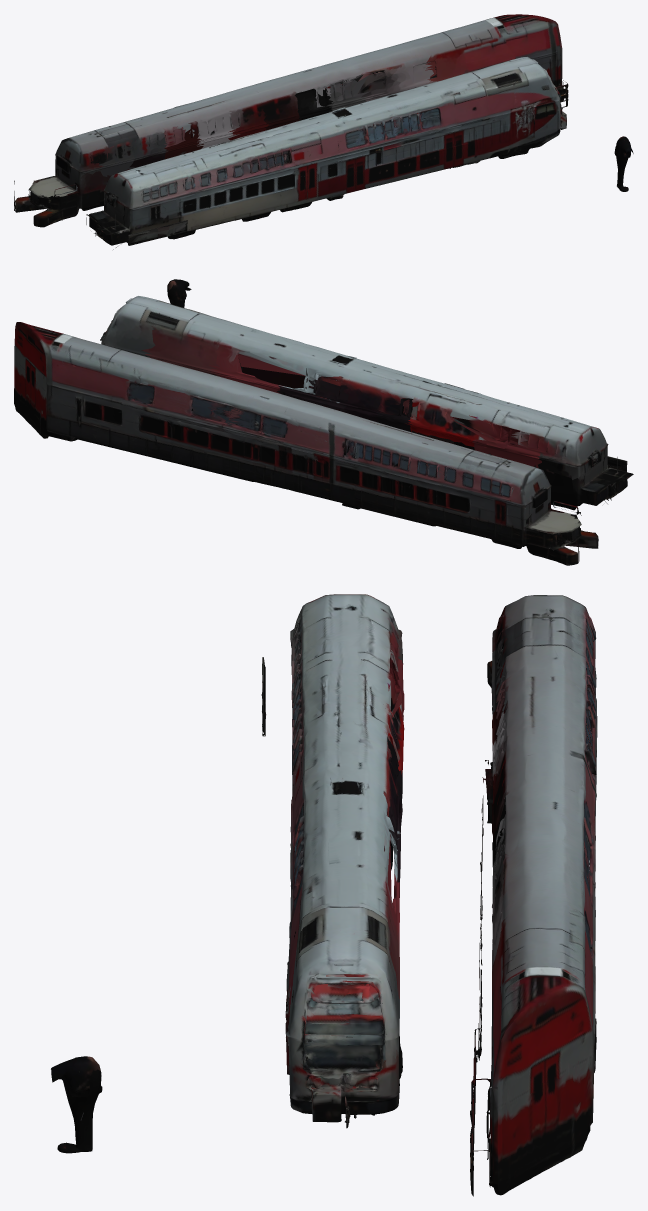
The model's file is transport-02.glb.
3 views of the same model, one above another, from view 1: azimuth 30°, elevation 25°; view 2: azimuth 150°, elevation 25°; view 3: azimuth 270°, elevation 25° (orthographic). The views are drawn at different scales.
Bounding box in the file's own units: 1.85 × 0.2917 × 0.8294.
Materials: 1 (1 with a texture image).
